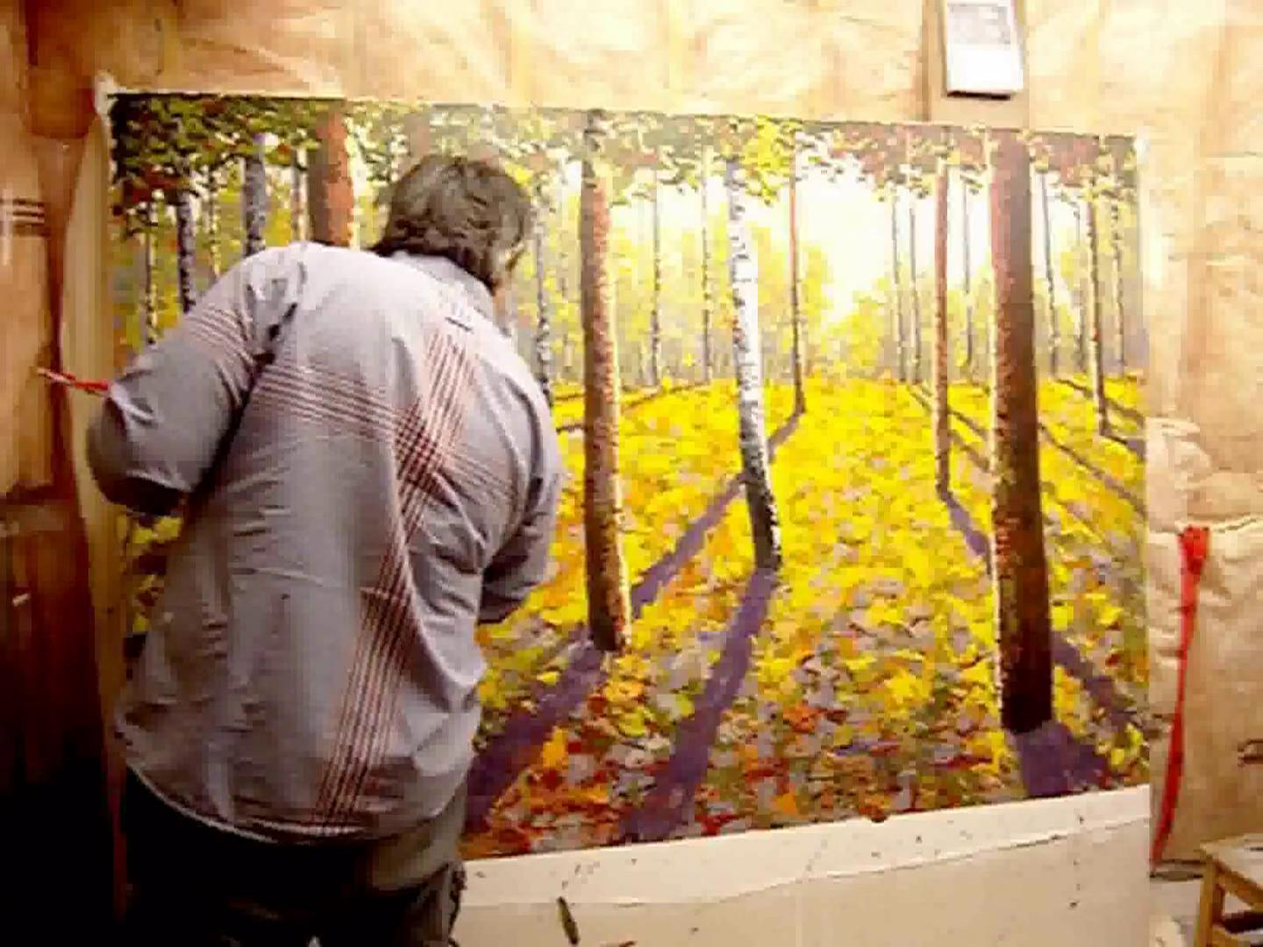victim: (83, 152, 565, 944)
